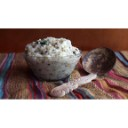venpongal: (25, 36, 82, 56)
